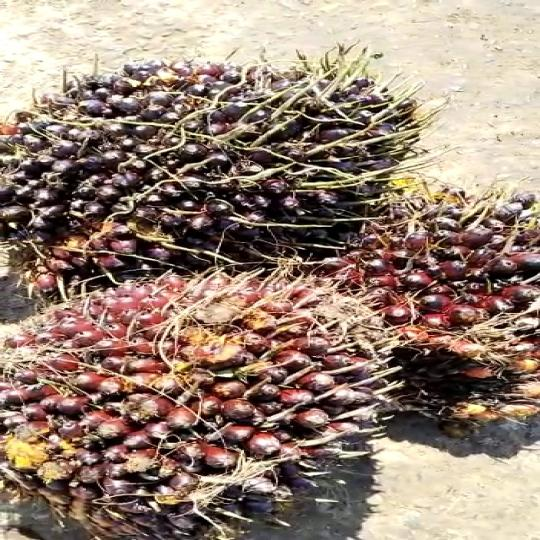kurang masak: (0, 282, 414, 540), (0, 45, 380, 284), (291, 166, 540, 424)
